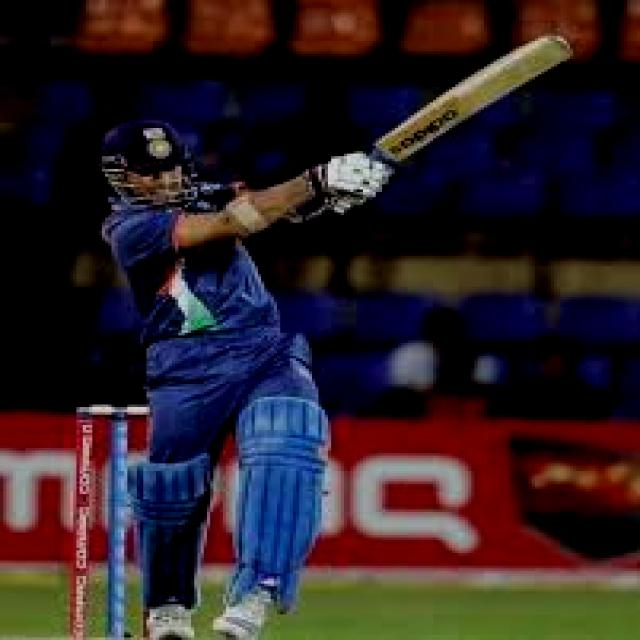toe: (532, 31, 582, 78)
